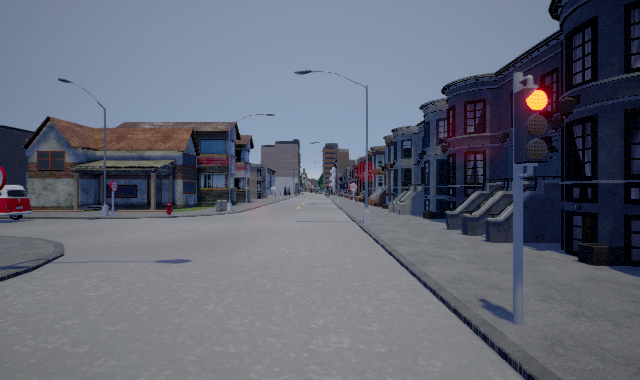traffic_light: (514, 83, 554, 163)
traffic_sign: (1, 166, 6, 191), (110, 181, 118, 192), (350, 182, 358, 192)
vehicle: (1, 185, 32, 220)
